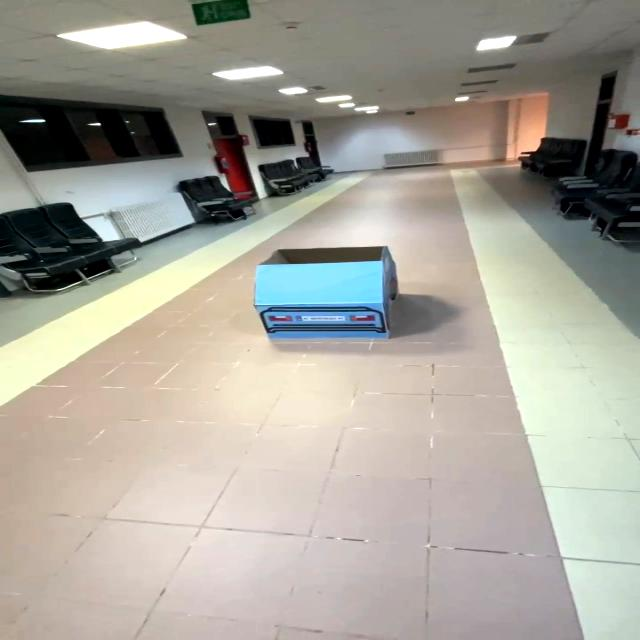blue_car: (226, 234, 421, 361)
